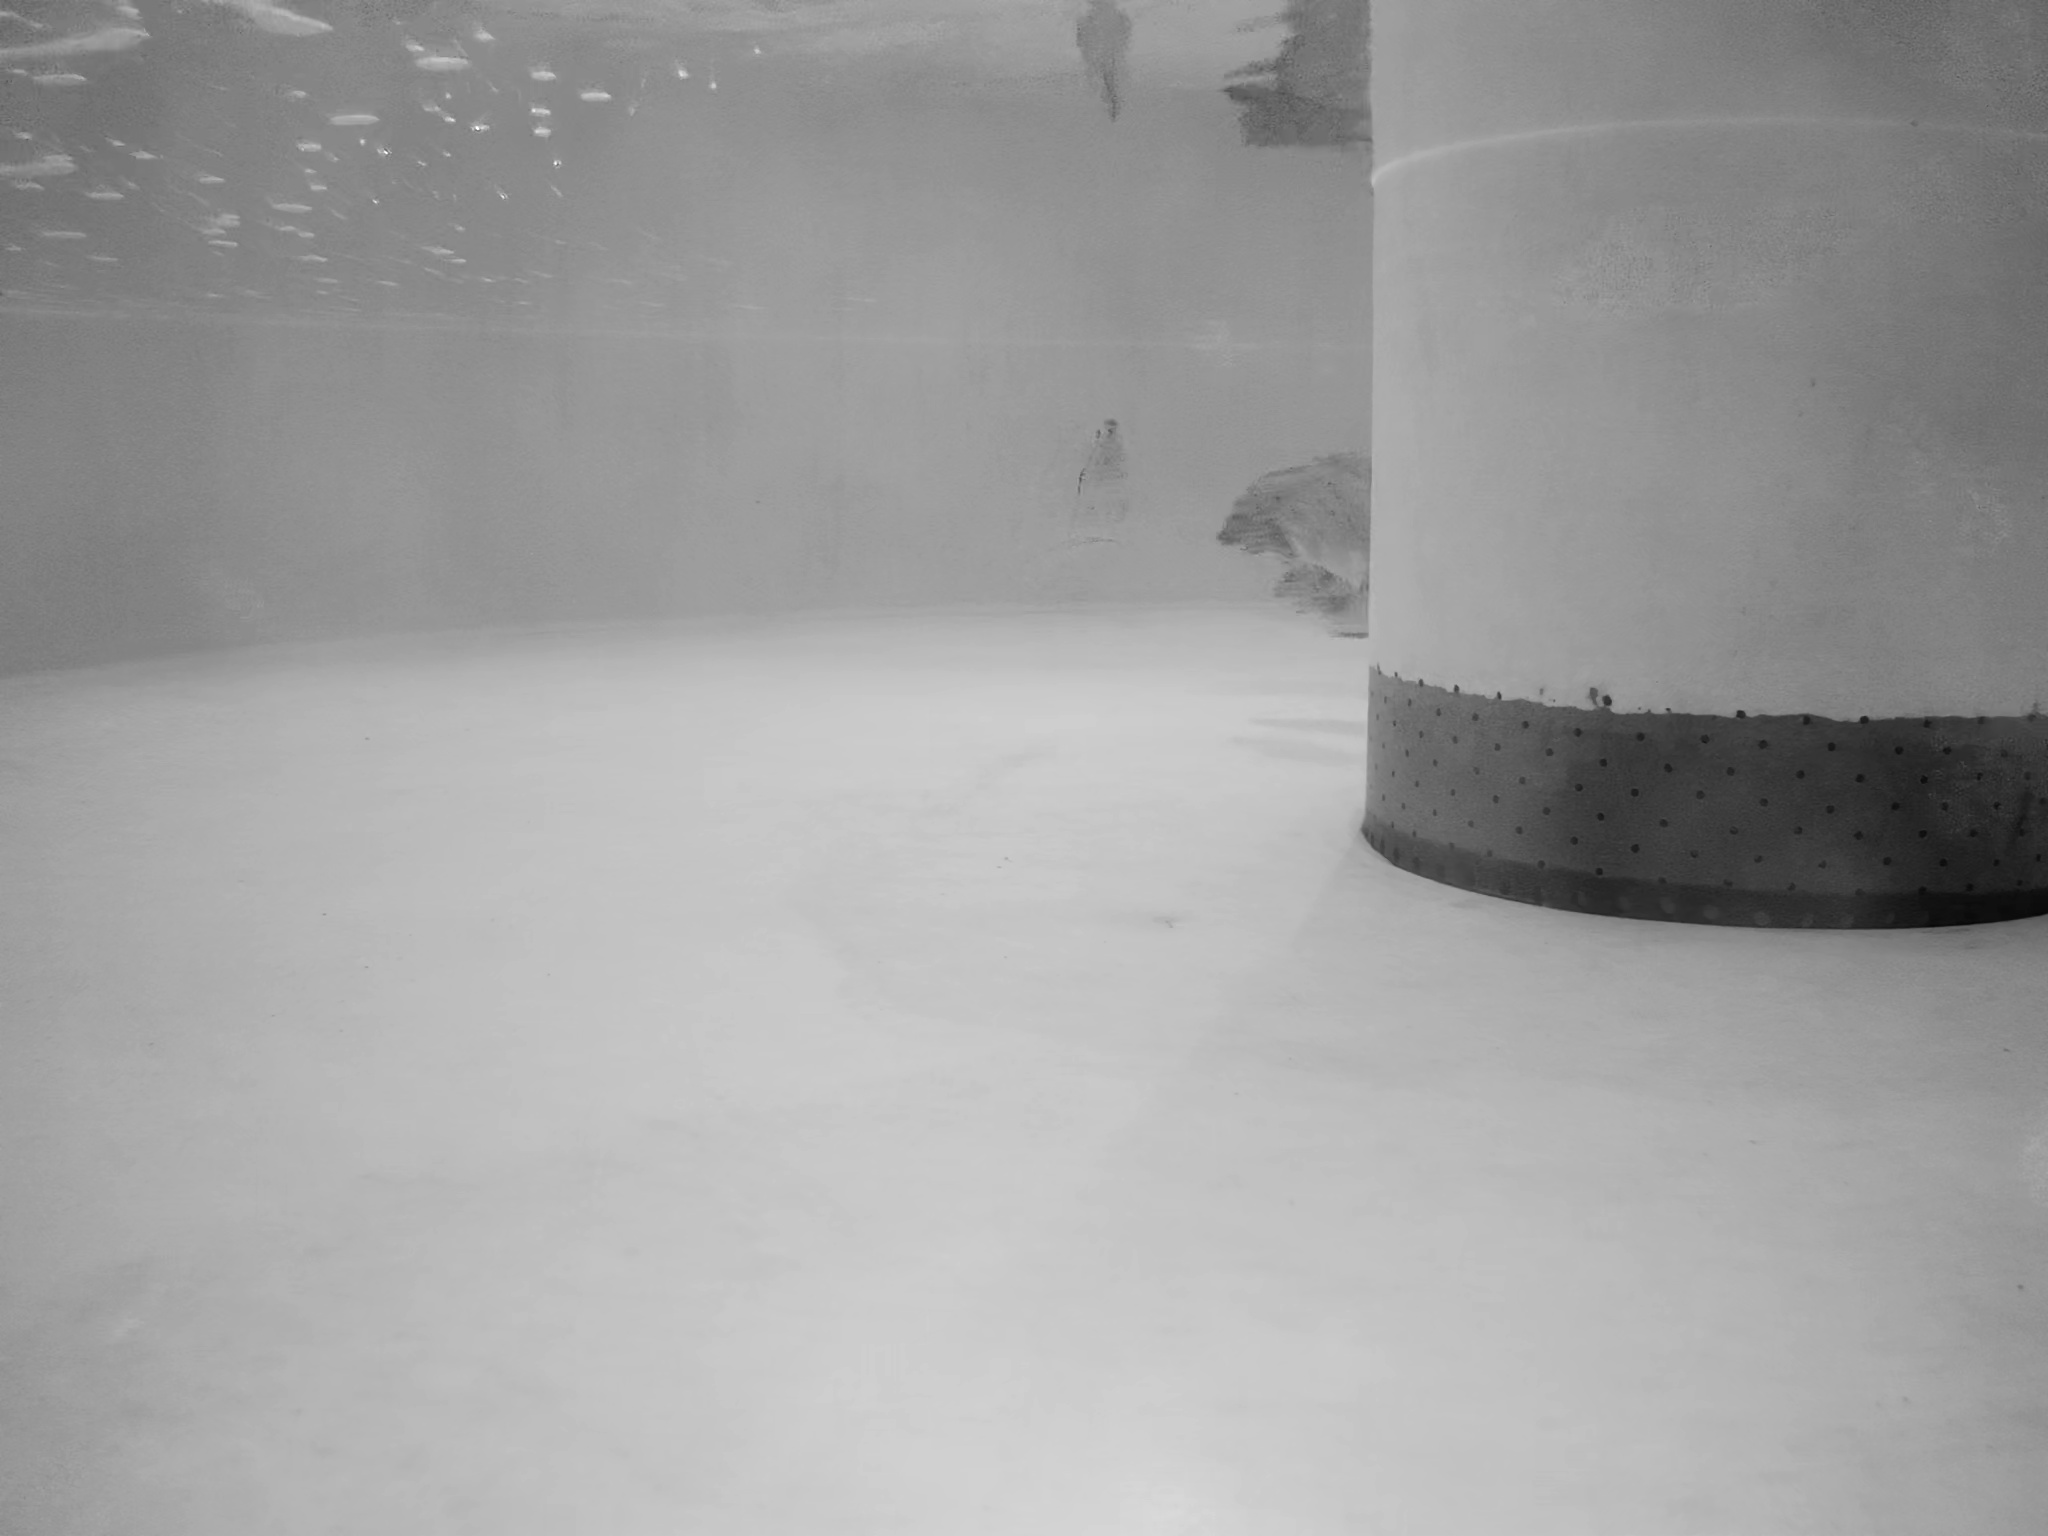fish: (1205, 447, 1384, 639), (1279, 457, 1379, 574), (1072, 407, 1140, 550), (1253, 566, 1384, 641)
